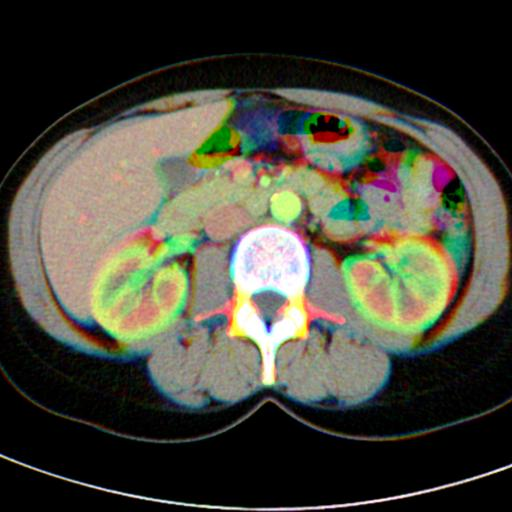Cyst: (158, 157, 197, 193)
